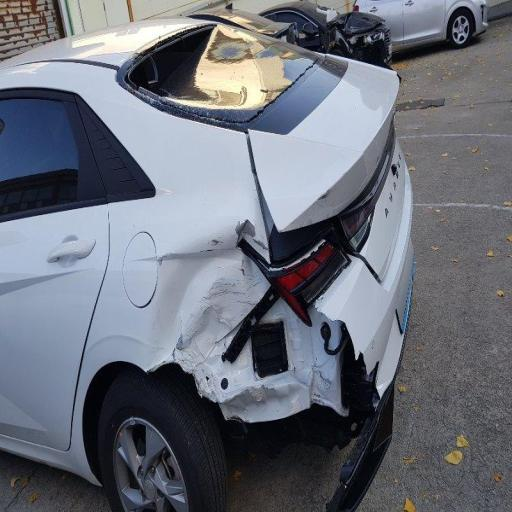broken: (177, 151, 408, 512)
